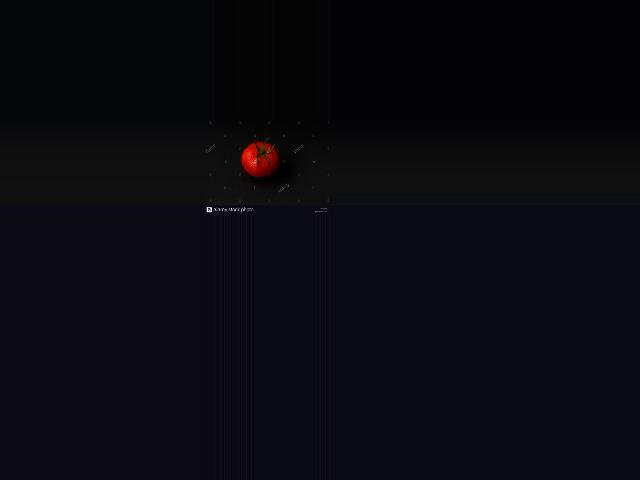tomato: (241, 141, 280, 176)
